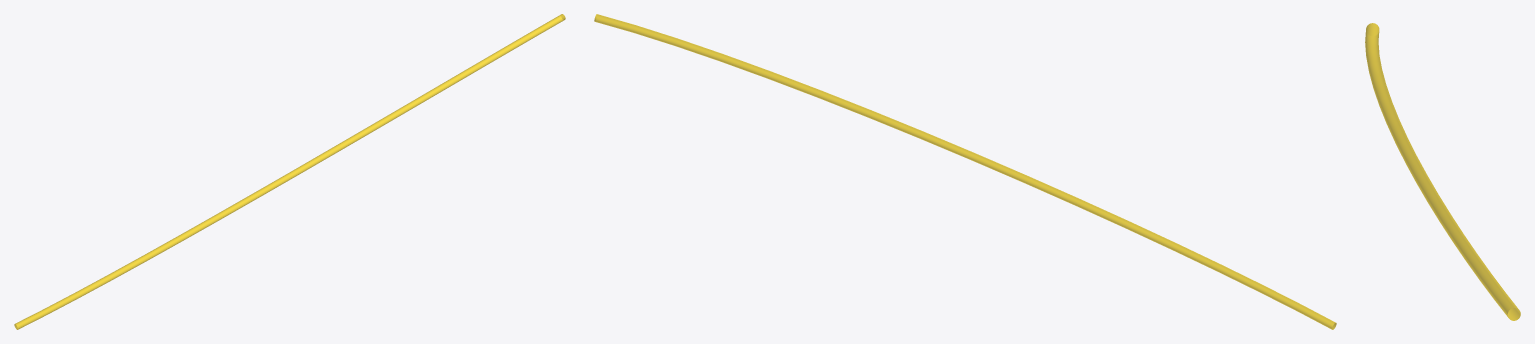
Rendered from Event_75125125_track_98.fbx.
3 renders of one model, left to right at view 1: azimuth 30°, elevation 25°; view 2: azimuth 150°, elevation 25°; view 3: azimuth 270°, elevation 25°, orthographic. The views are drawn at different scales.
Parts seen in each view (by area): view 1: Model; view 2: Model; view 3: Model.
Part boxes in pixels (left/top/right/bottom): Model: left=14, top=14, right=565, bottom=329; Model: left=594, top=14, right=1336, bottom=329; Model: left=1365, top=23, right=1520, bottom=320.
Bounding box in the file's own units: 4 × 0.9687 × 0.4625.
